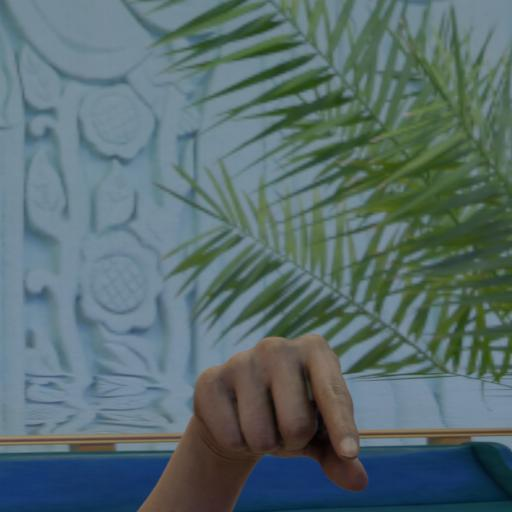Q: (175, 328, 379, 512)
